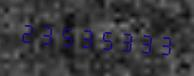five: (57, 16, 76, 54), (97, 20, 116, 57)
three: (37, 14, 56, 52), (117, 21, 136, 59), (137, 23, 156, 61), (77, 18, 96, 55), (157, 25, 176, 62)
two: (17, 13, 36, 50)
